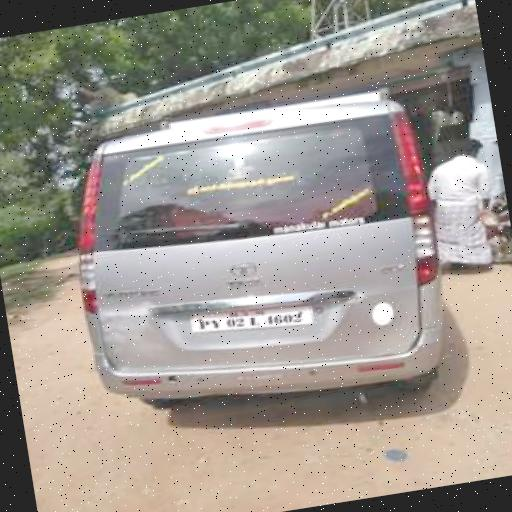license_plate`: (187, 297, 312, 340)
